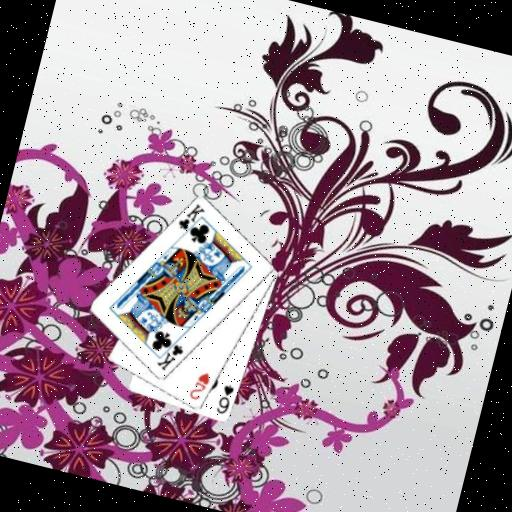2H: (185, 367, 213, 404)
6S: (213, 380, 237, 417)
KC: (152, 332, 188, 376), (173, 198, 209, 242)
